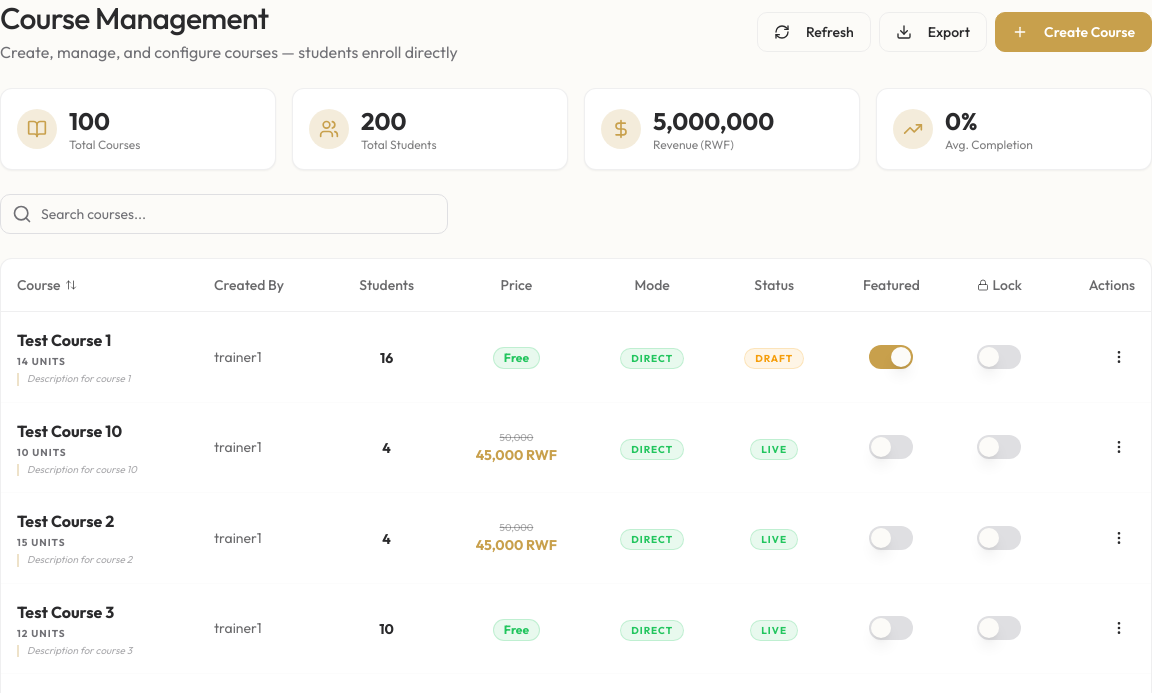
Test case: AdminCourses — pagination integration › shows no matching courses when search has no results
Type "zzz_nonexistent" into the field with placeholder "Search courses..." at coordinates (224, 214), box [0, 194, 448, 234]
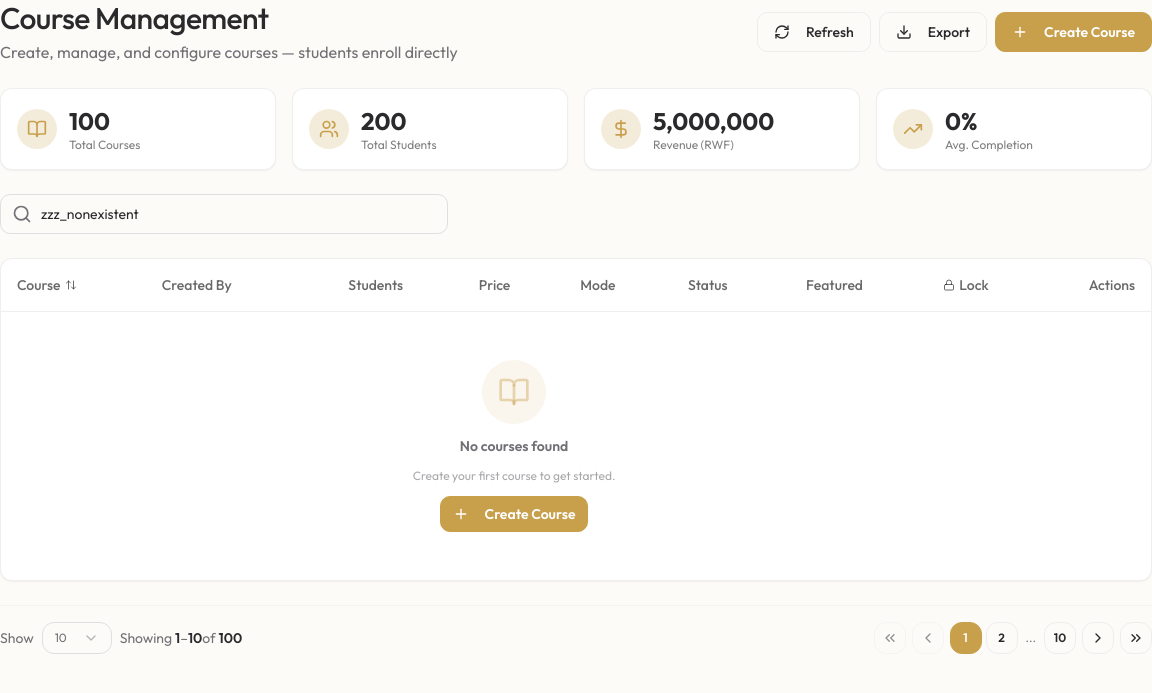
Result: the text "No courses found" is shown at [460, 436, 568, 456]
